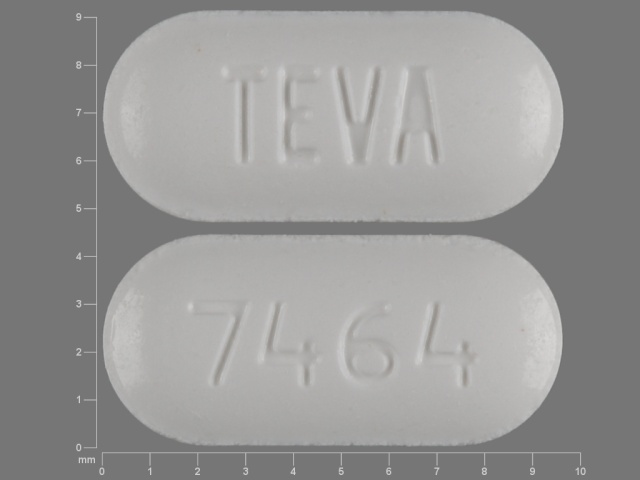4: (253, 297, 324, 397)
6: (409, 297, 483, 394), (329, 296, 400, 390)
7: (177, 294, 253, 396)
A: (389, 62, 447, 172)
E: (276, 61, 329, 172)
T: (214, 60, 272, 172)
V: (329, 63, 386, 172)
